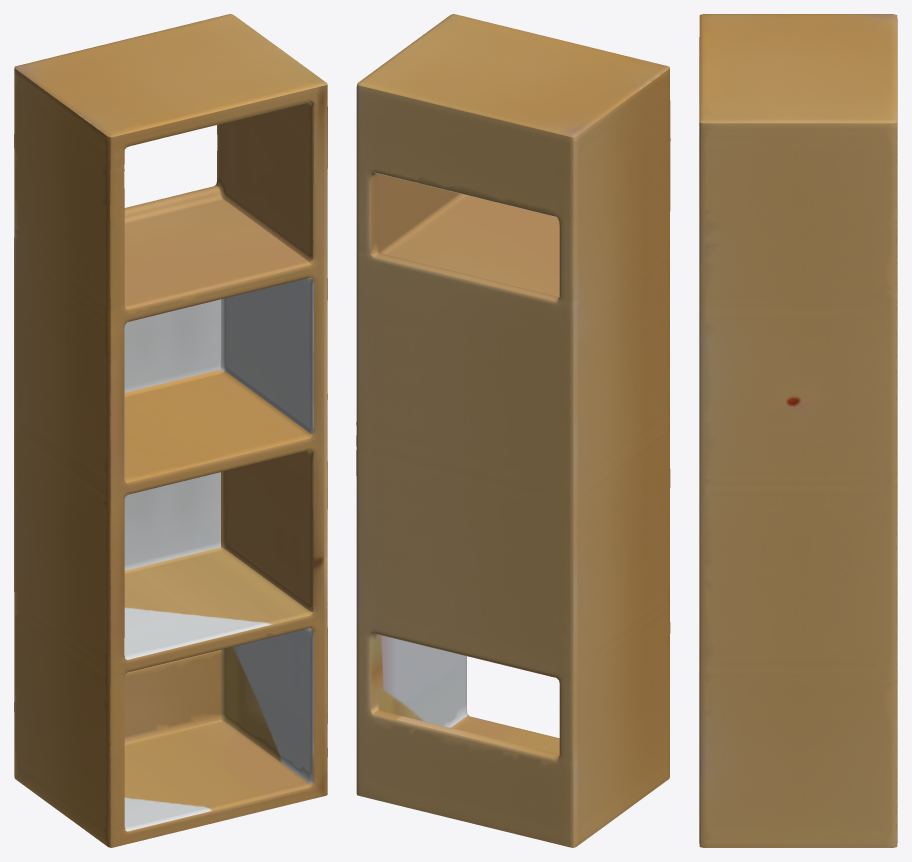
Rendered from shelf__shelf#3.glb.
3 views of the same model, side by side, from view 1: azimuth 30°, elevation 25°; view 2: azimuth 150°, elevation 25°; view 3: azimuth 270°, elevation 25° (orthographic).
Parts seen in each view (by area): view 1: tmpb4dh16w5.ply; view 2: tmpb4dh16w5.ply; view 3: tmpb4dh16w5.ply.
Part boxes in pixels (box(x1,y1,x2,y2)): tmpb4dh16w5.ply: box(14, 14, 327, 847); tmpb4dh16w5.ply: box(356, 14, 670, 847); tmpb4dh16w5.ply: box(699, 14, 897, 847).
Size of the model in its own units: 0.6422 by 1.99 by 0.4922.
1 material, 1 textured.
